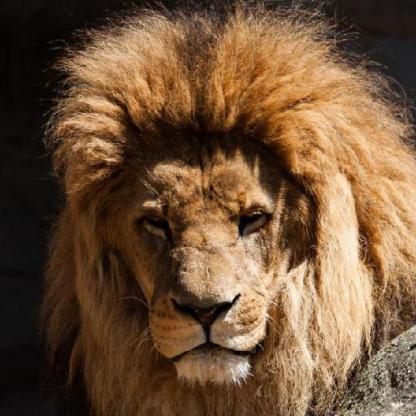lion: (61, 60, 350, 389)
